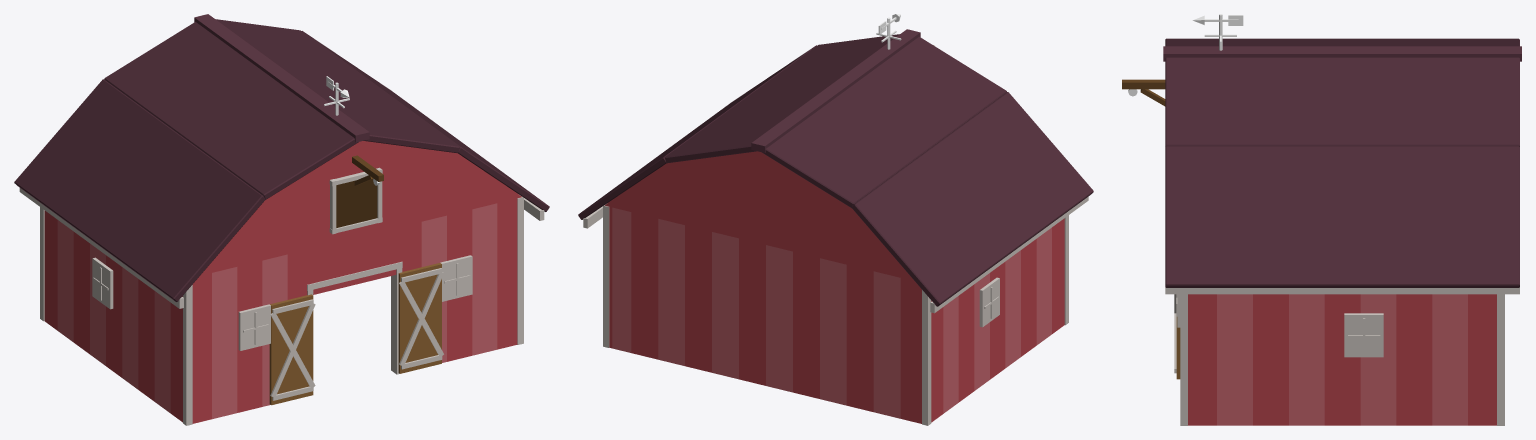
Rendered from barn.glb.
The picture shows the model from 3 angles, left to right: view 1: azimuth 30°, elevation 25°; view 2: azimuth 150°, elevation 25°; view 3: azimuth 270°, elevation 25°; orthographic projection. The views are drawn at different scales.
Visible parts, largest first — view 1: Barn; view 2: Barn; view 3: Barn.
Part boxes in pixels (<box>): Barn: <box>14,14,549,425</box>; Barn: <box>578,14,1093,425</box>; Barn: <box>1122,14,1521,425</box>.
Size of the model in its own units: 13.45 by 9.85 by 11.15.
